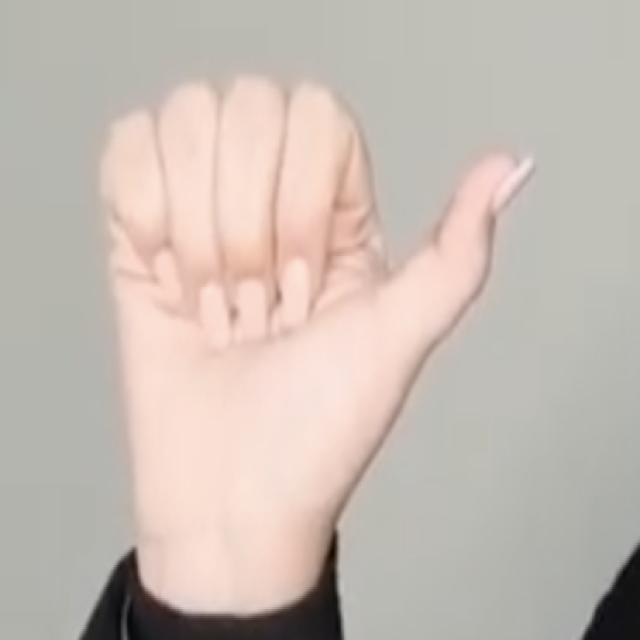A: (95, 39, 555, 542)
